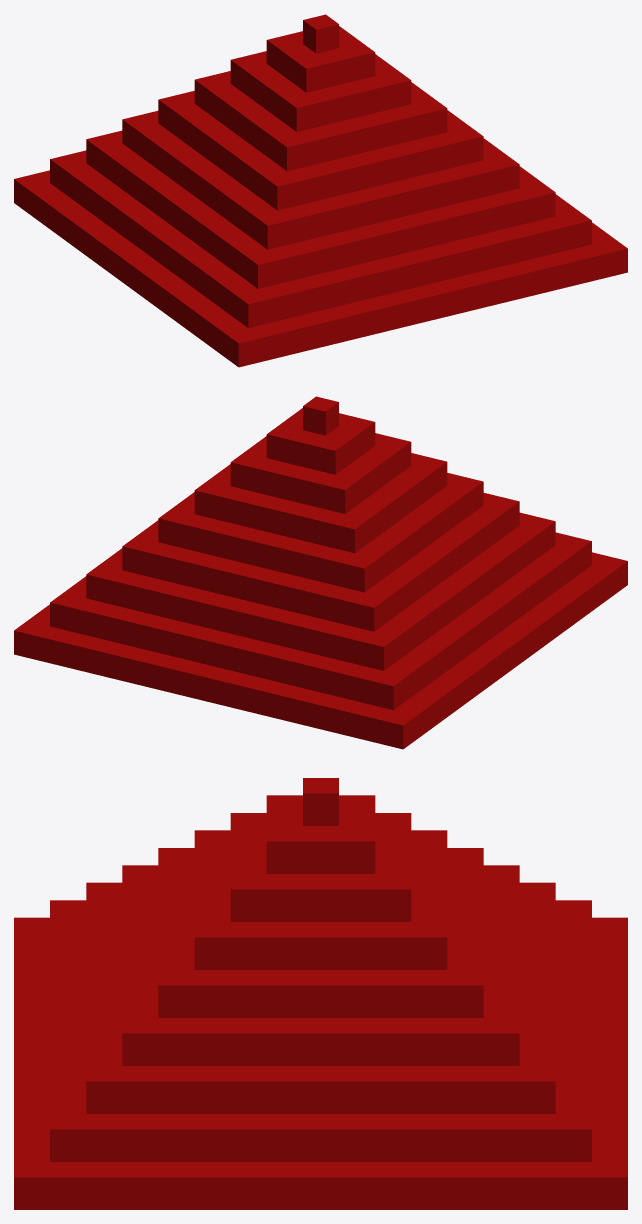
The model's file is tenthModelroof.fbx.
The picture shows the model from 3 angles, top to bottom: view 1: azimuth 30°, elevation 25°; view 2: azimuth 150°, elevation 25°; view 3: azimuth 270°, elevation 25°; orthographic projection. The views are drawn at different scales.
Visible parts, largest first — view 1: Box; view 2: Box; view 3: Box.
Part boxes in pixels (x1,y1,x2,y2): Box: (14, 14, 627, 367); Box: (14, 396, 627, 749); Box: (14, 778, 627, 1209).
Size of the model in its own units: 17 by 9 by 17.
Materials: 1 (1 with a texture image).
